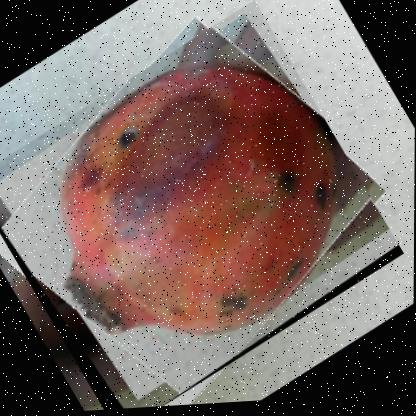pomegranate_rotten: (0, 0, 408, 415)
